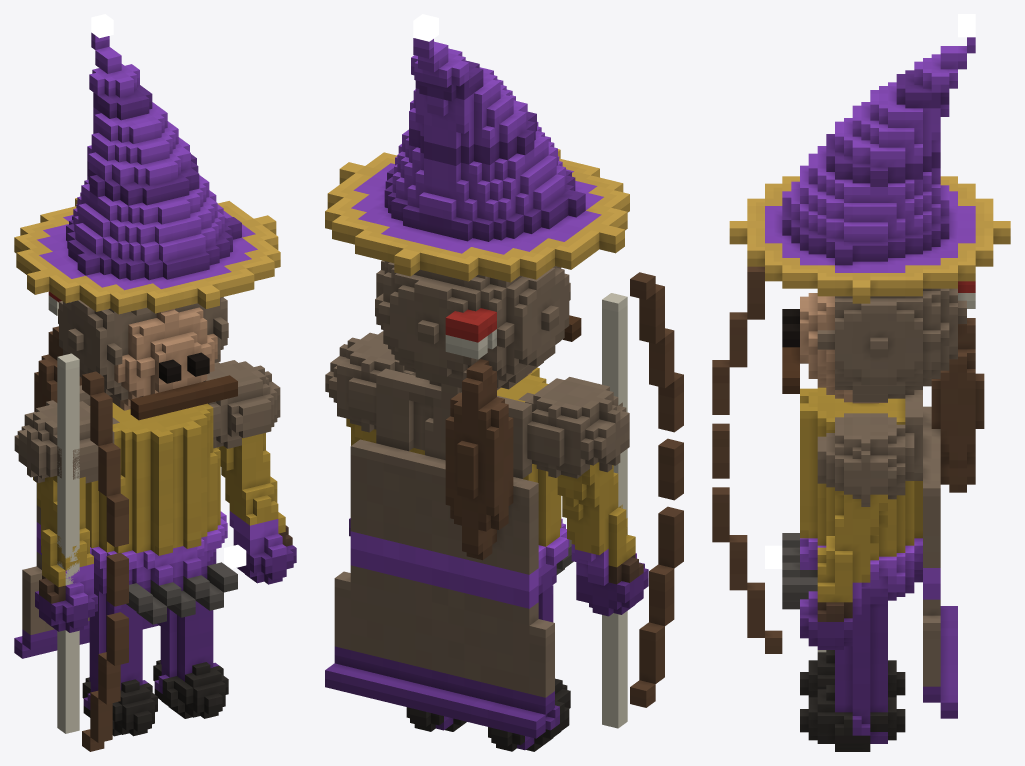
Rendered from u_trappeur__oracle.glb.
3 renders of one model, left to right at view 1: azimuth 30°, elevation 25°; view 2: azimuth 150°, elevation 25°; view 3: azimuth 270°, elevation 25°, orthographic. The views are drawn at different scales.
Visible parts, largest first — view 1: trappeur_body, trappeur_weapon, trappeur_glow; view 2: trappeur_body, trappeur_weapon, trappeur_glow; view 3: trappeur_body, trappeur_weapon, trappeur_glow.
Boxes of the visible parts, left/top/right/bottom form: trappeur_body: left=14, top=32, right=296, bottom=736; trappeur_weapon: left=57, top=353, right=128, bottom=751; trappeur_glow: left=91, top=14, right=246, bottom=568; trappeur_body: left=325, top=38, right=648, bottom=751; trappeur_weapon: left=602, top=272, right=683, bottom=728; trappeur_glow: left=413, top=14, right=438, bottom=41; trappeur_body: left=729, top=37, right=1010, bottom=751; trappeur_weapon: left=712, top=266, right=826, bottom=653; trappeur_glow: left=765, top=14, right=975, bottom=568.
Bounding box in the file's own units: 0.85 × 2.22 × 0.85.
